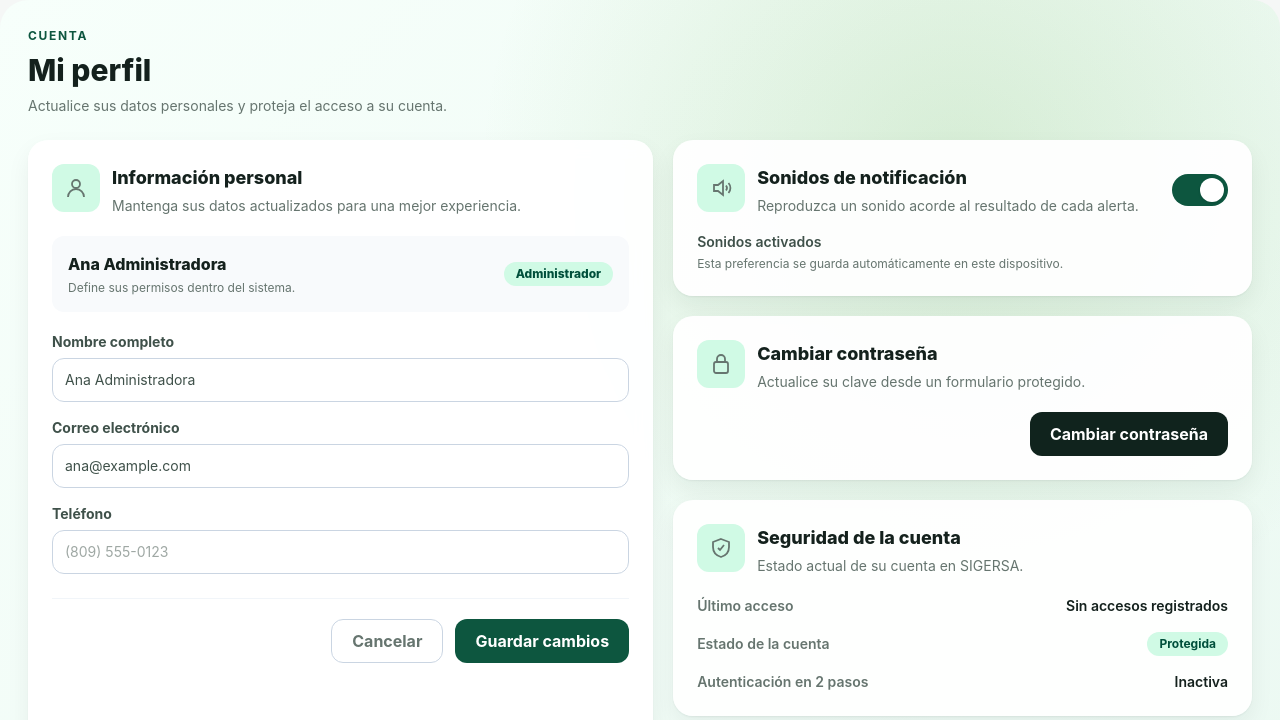
Test case: ProfileManagement › aplica la máscara dominicana al teléfono
This screenshot has width=1280, height=720.
Type "8095550123 texto" into the field labelled "Teléfono". click: {"x": 341, "y": 552}
box: x1=52 y1=530 x2=629 y2=574
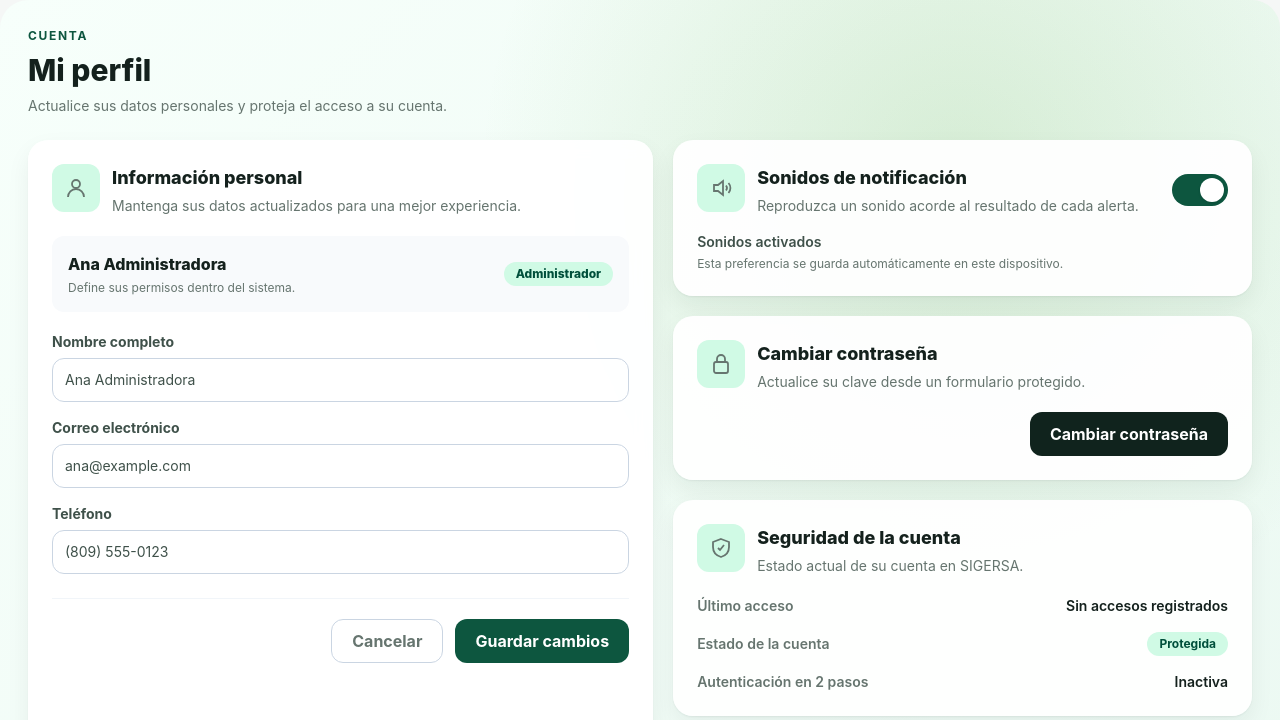
Expected: the field labelled "Teléfono" holds "(809) 555-0123", x1=52 y1=530 x2=629 y2=574
